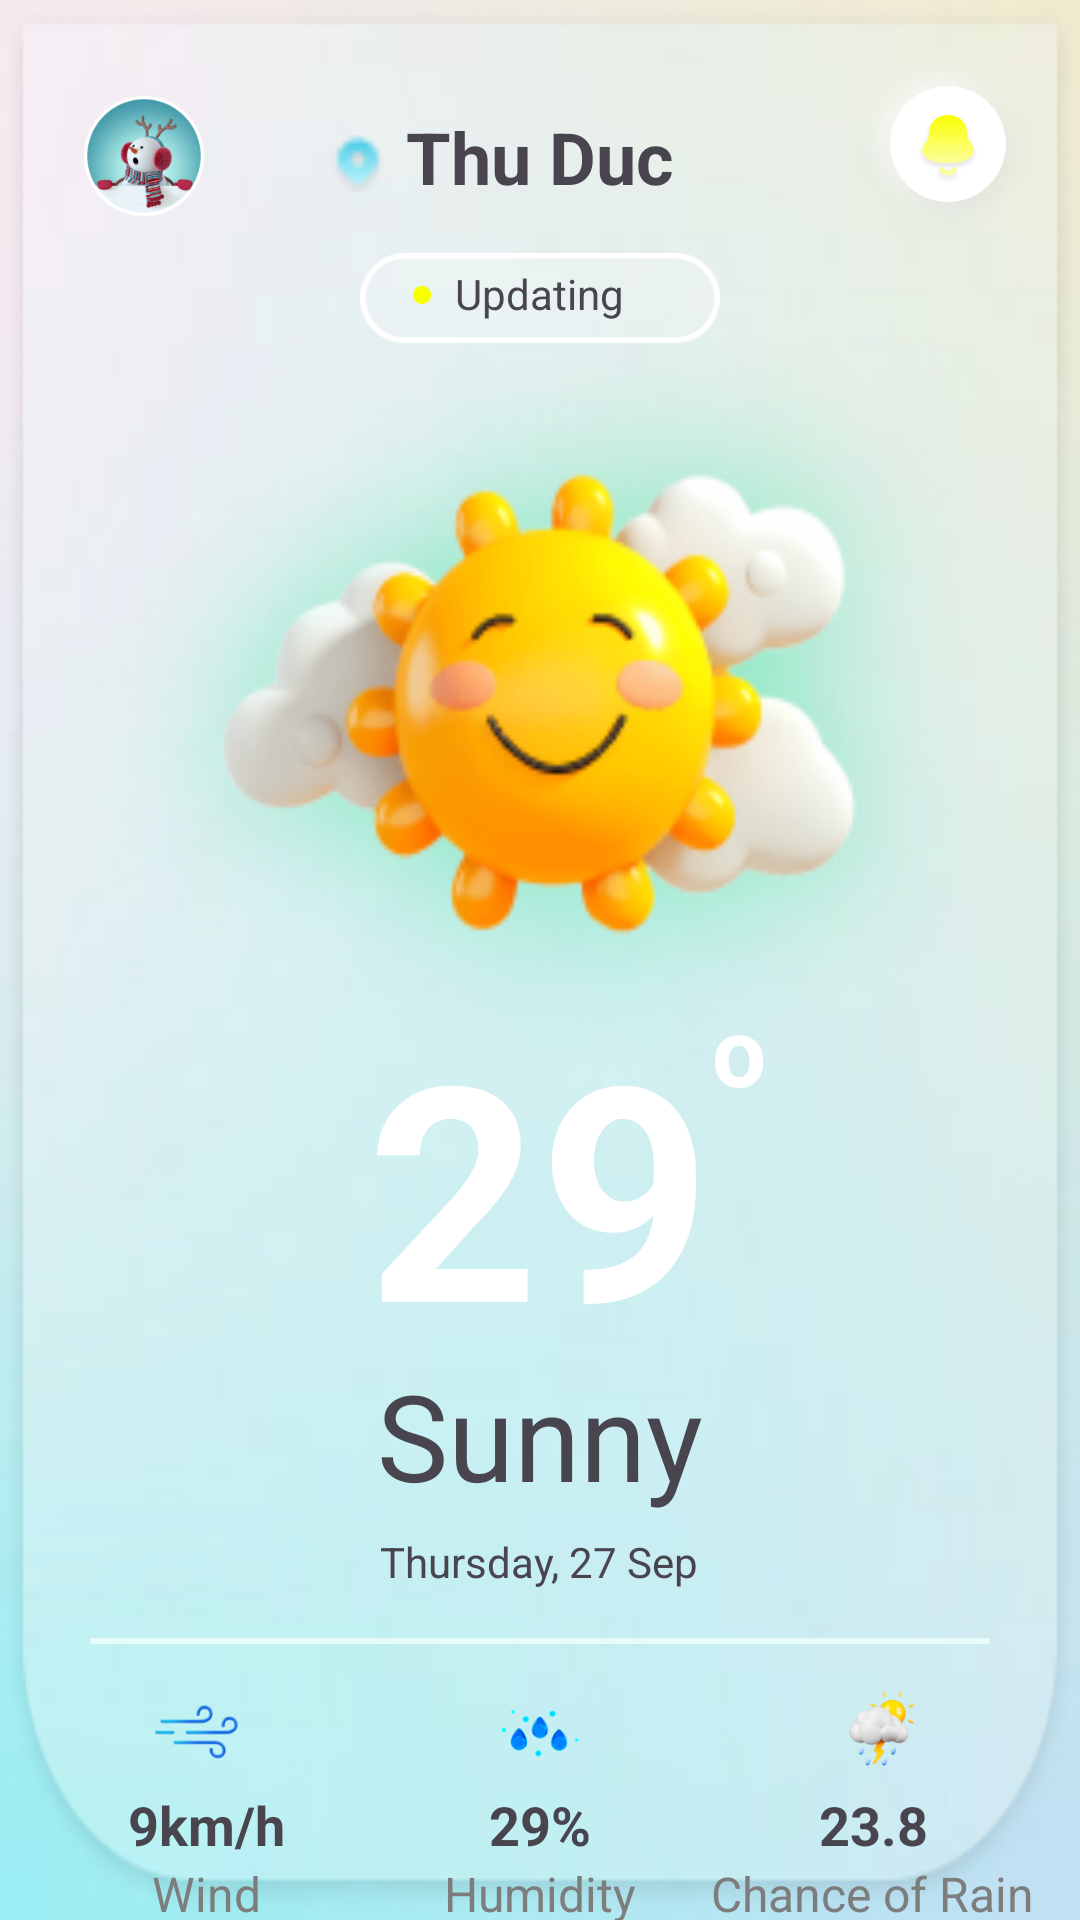

Named icons in this screenshot (1080*1920) and their centers, (x,y):
location: (358,161)
notification: (948,144)
user: (144,154)
